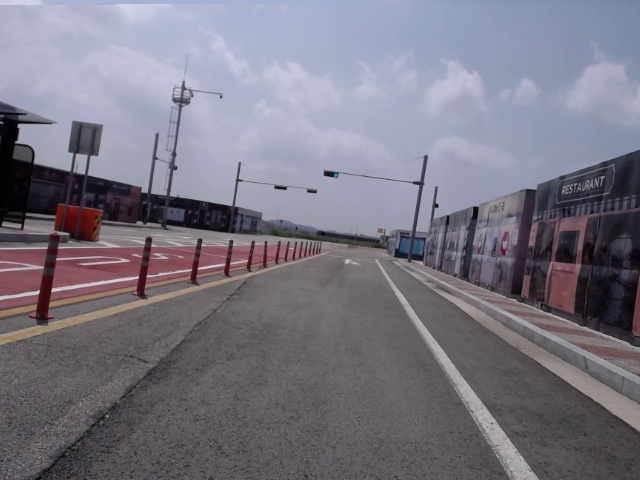green_3: (324, 170, 339, 178)
